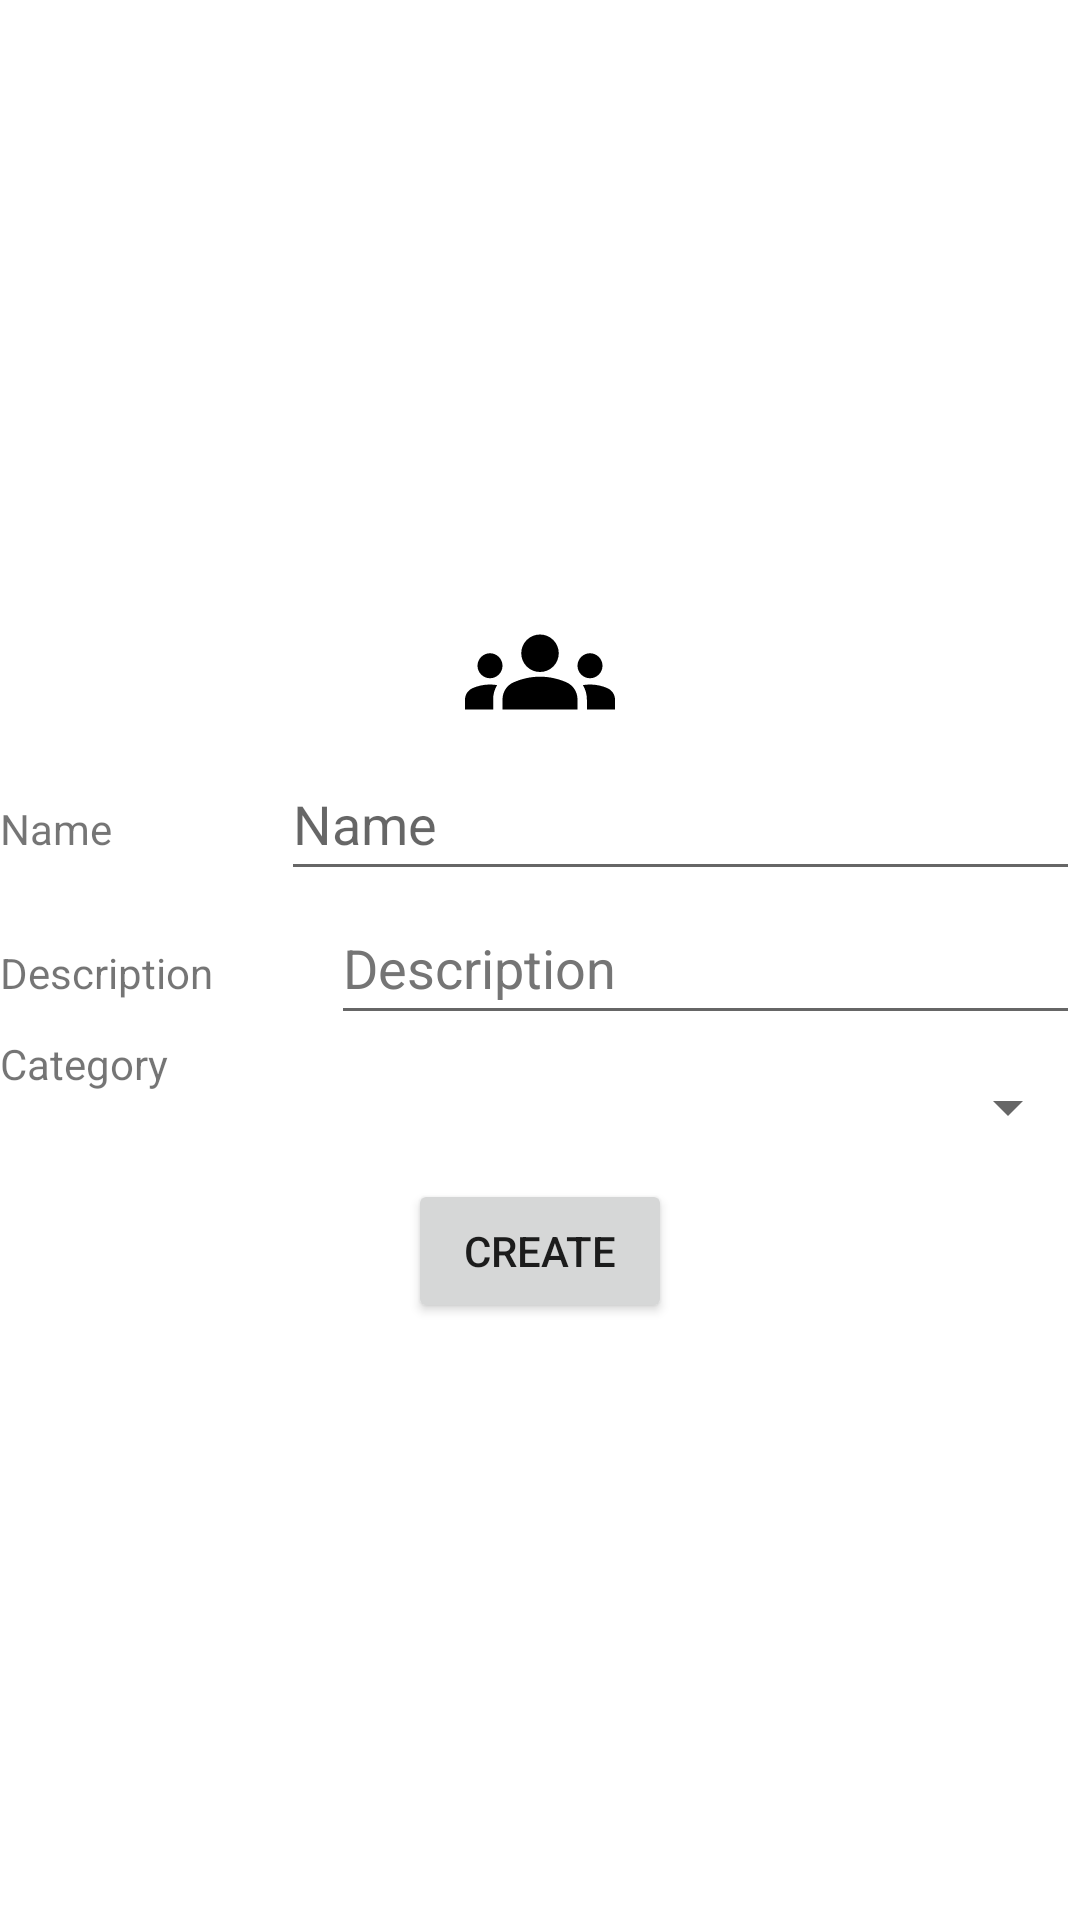

Where icons sit on this 1080*1920 app screen, as Rect(x1, y1, x2, y2):
groups: Rect(465, 634, 615, 710)
